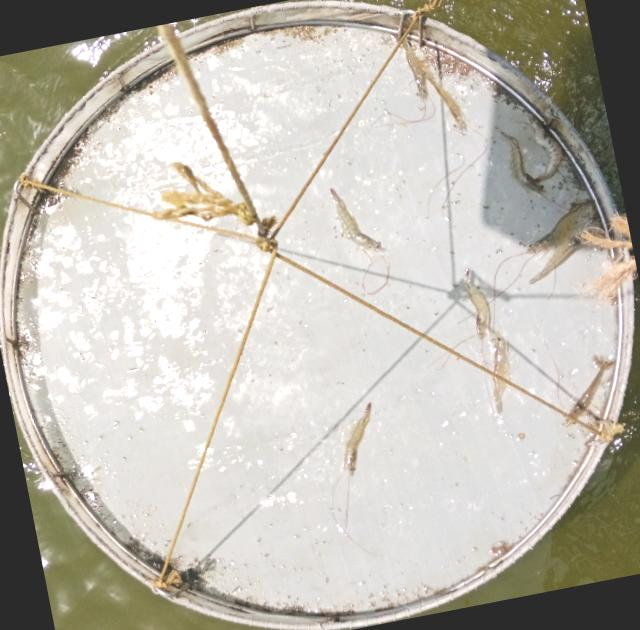shrimp: (329, 187, 390, 253), (530, 226, 597, 284), (560, 355, 614, 426), (527, 200, 596, 253), (420, 62, 469, 135), (501, 133, 548, 194), (339, 402, 373, 477), (530, 115, 564, 183), (464, 267, 491, 341), (402, 38, 428, 101), (492, 335, 511, 417)
